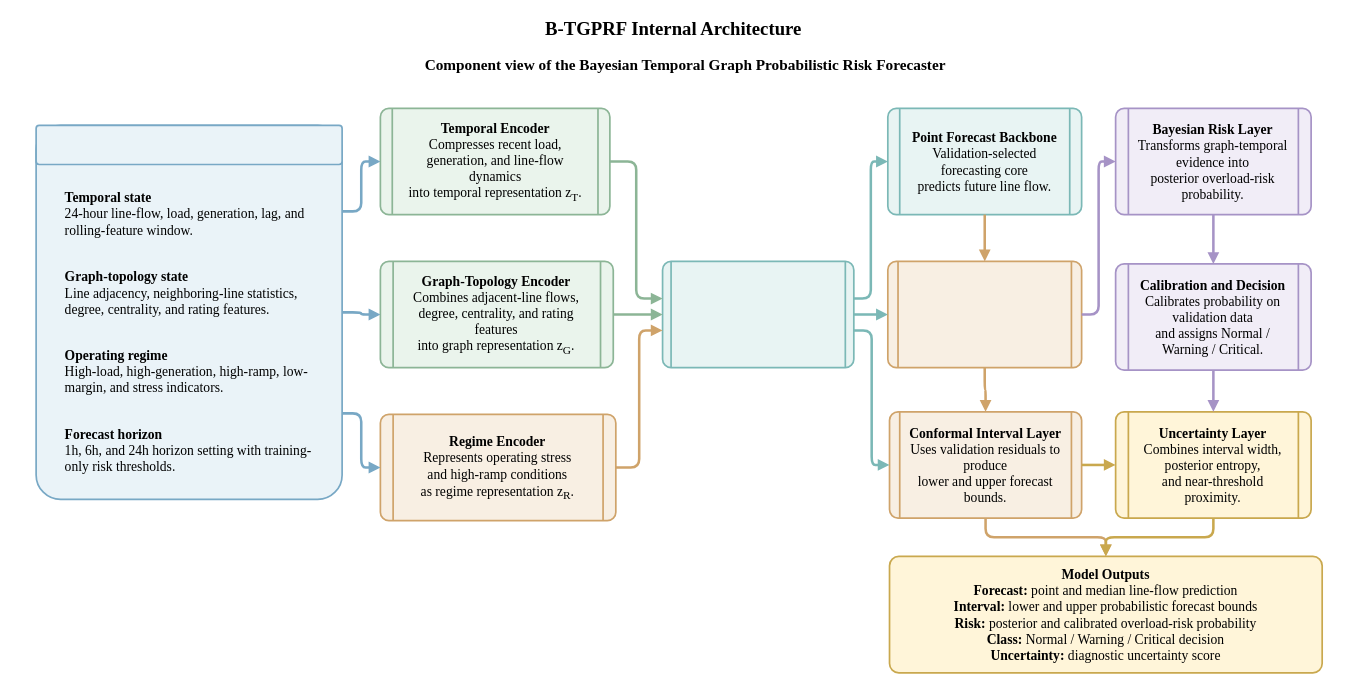
The diagram is 1346 pixels wide and 688 high, and some of its shapes have lost their labels. Here are the shapes that lost their labels. From the top down, the centre of each, then its label:
point 189,144: Model Inputs
point 757,314: Graph-Temporal Fusion Forms joint model state: z = [z T , z G , z R , h].
point 984,314: Residual Correction Corrects near-threshold and high-risk forecast errors.
